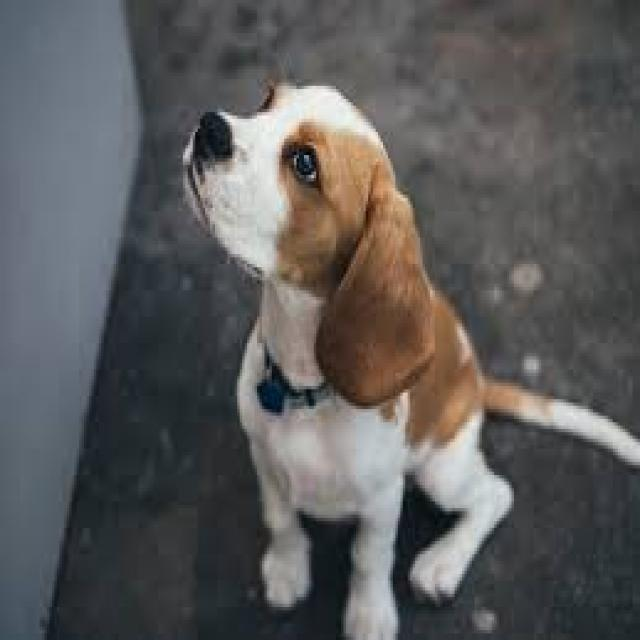Dog: (174, 73, 640, 640)
